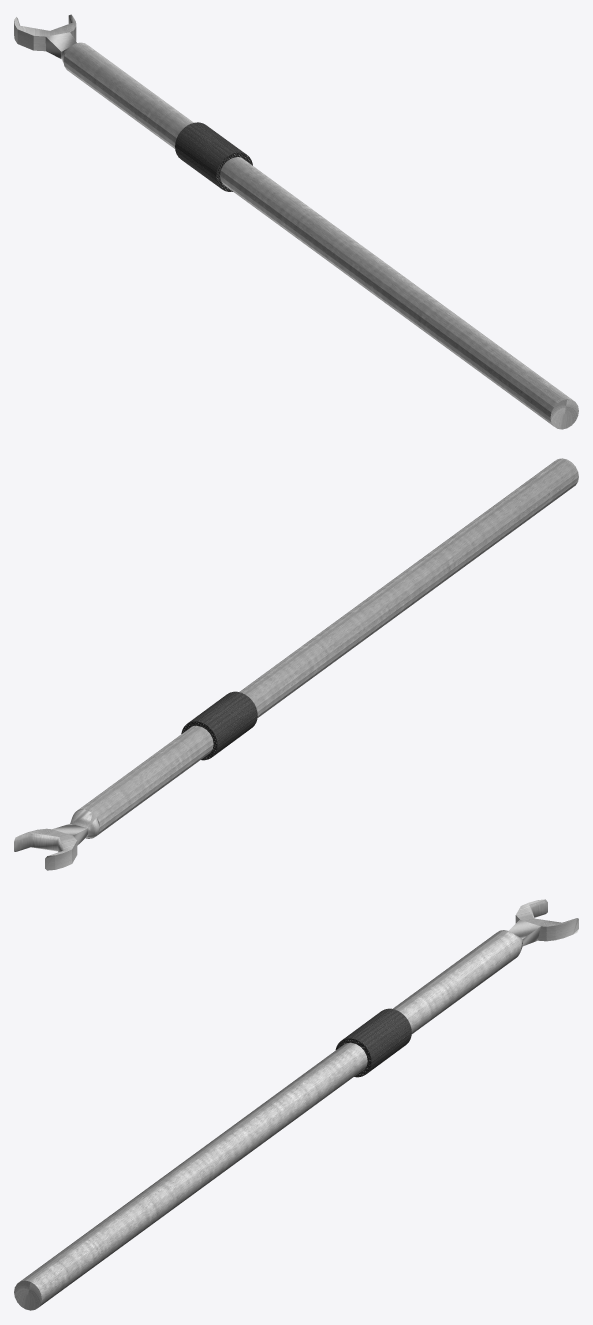
The picture shows the model from 3 angles, top to bottom: view 1: azimuth 30°, elevation 25°; view 2: azimuth 150°, elevation 25°; view 3: azimuth 330°, elevation 25°; orthographic projection.
Parts seen in each view (by area): view 1: 加力扳手2, 加力扳手1, 加力扳手3, 加力扳手; view 2: 加力扳手2, 加力扳手1, 加力扳手3; view 3: 加力扳手2, 加力扳手1, 加力扳手3.
Boxes of the visible parts, box(x1,y1,x2,y2) form: 加力扳手2: box(61, 42, 578, 429); 加力扳手1: box(175, 122, 252, 191); 加力扳手3: box(14, 14, 76, 51); 加力扳手: box(45, 32, 76, 58); 加力扳手2: box(70, 458, 578, 838); 加力扳手1: box(181, 691, 257, 760); 加力扳手3: box(14, 828, 77, 870); 加力扳手2: box(14, 930, 522, 1310); 加力扳手1: box(335, 1008, 411, 1077); 加力扳手3: box(515, 899, 578, 941).
Bounding box in the file's own units: 0.3915 × 0.2586 × 6.55.
3 materials, 3 textured.
